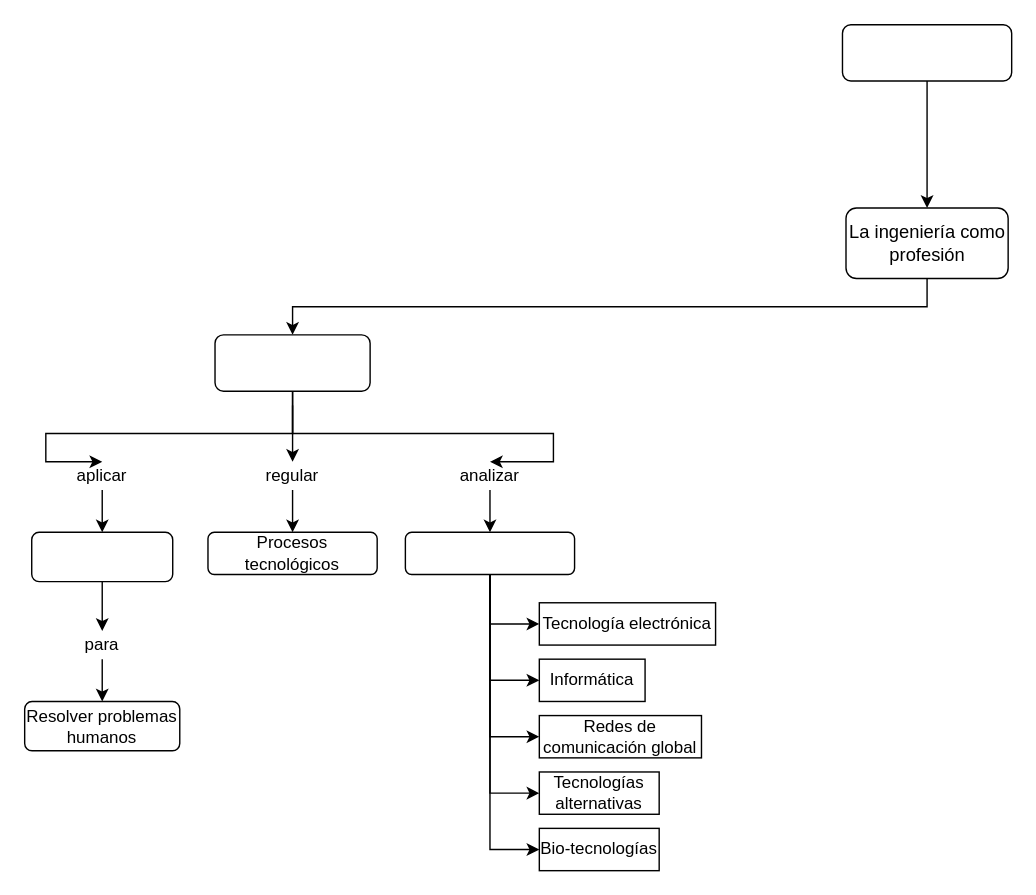
The diagram is 1036 pixels wide and 895 high, and some of its shapes have lost their labels. The shapes that lost their labels are listed below. From the top down, each one's box as (x1, y1, x2, y2) in pixels, then its label:
(841, 23, 1012, 81): Unidad 1.2
(214, 333, 370, 391): Competencias
(30, 531, 173, 582): Conocimientos y experiencias
(404, 531, 575, 575): Tendencias tecnológicas
